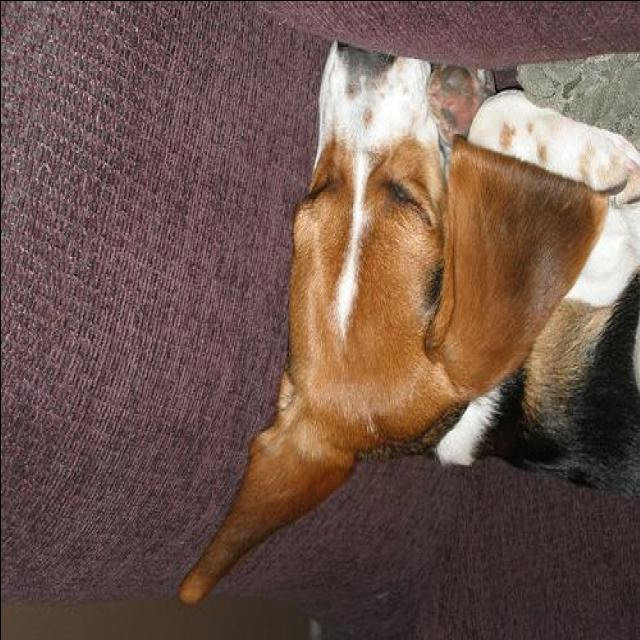beagle: (175, 41, 639, 606)
